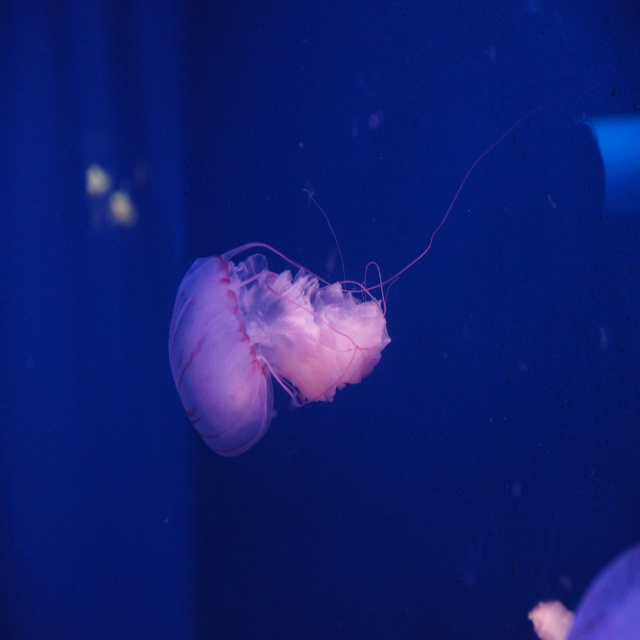Jellyfish: (155, 122, 595, 524)
